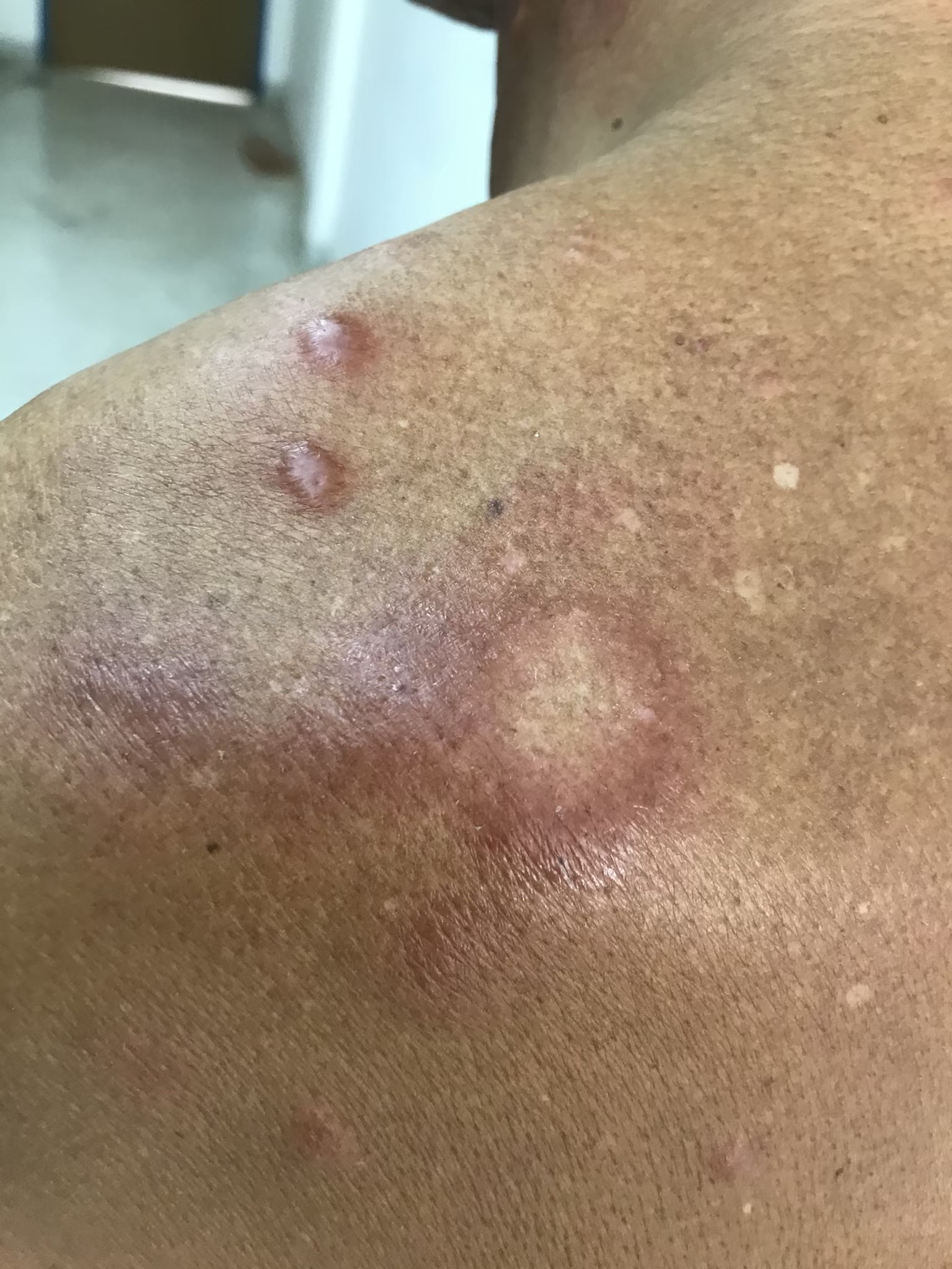Leprosy: (215, 573, 716, 896), (258, 428, 377, 533), (283, 303, 389, 400), (281, 1092, 370, 1177)
